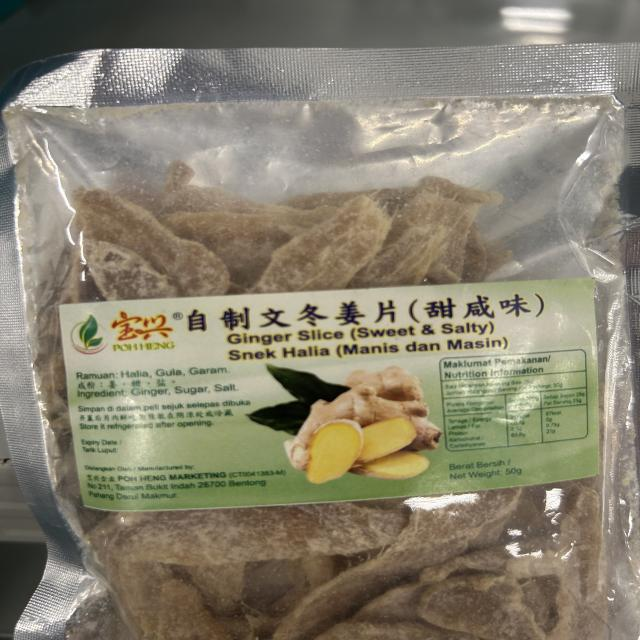object_name: (10, 71, 640, 639)
